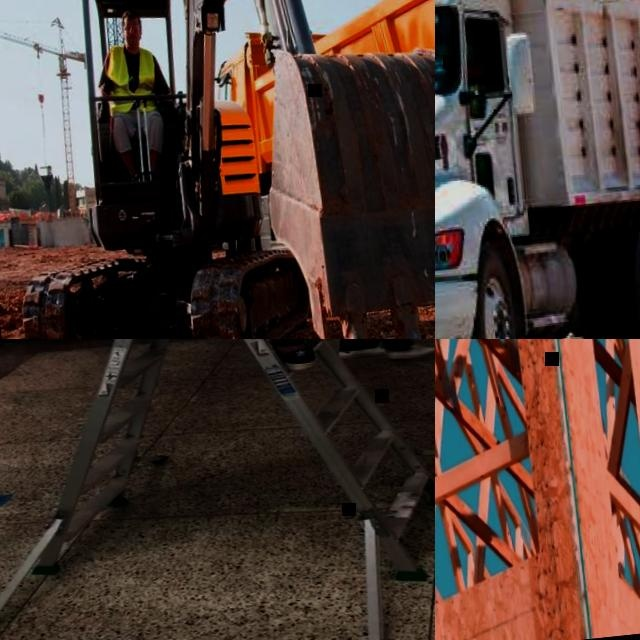NO-Hardhat: (123, 8, 141, 20)
NO-Mask: (124, 34, 139, 49)
NO-Safety Vest: (103, 42, 160, 110)
Person: (92, 4, 183, 181)
machinery: (0, 0, 435, 339), (194, 0, 435, 322), (435, 0, 640, 339)
